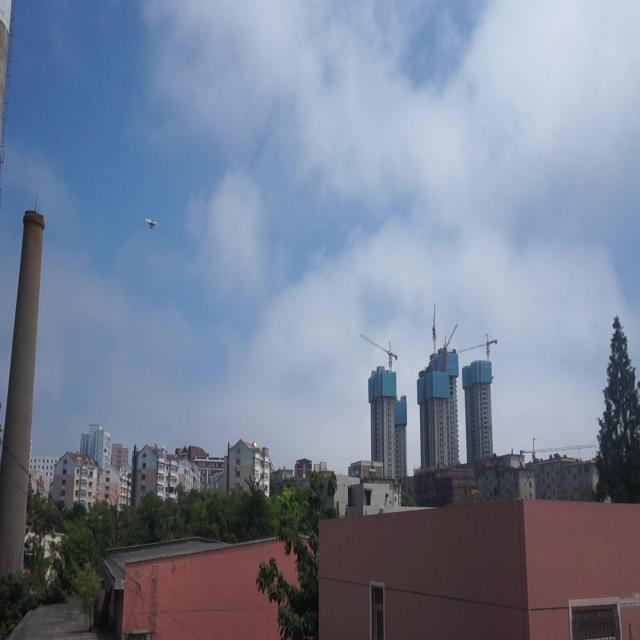UAV: (145, 218, 159, 230)
